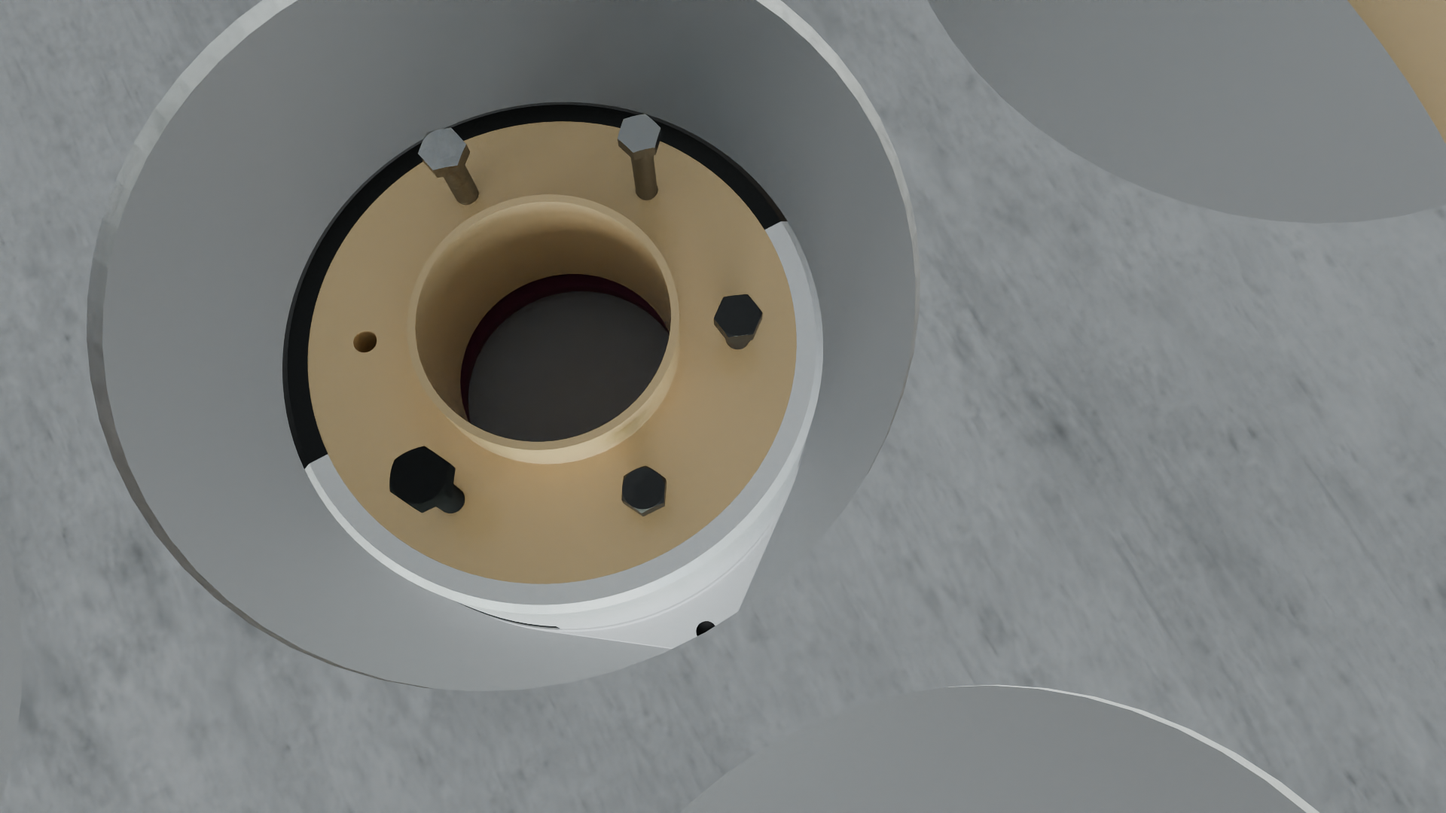bolt: (389, 446, 450, 509), (621, 465, 666, 513), (714, 294, 763, 338), (418, 128, 466, 170), (618, 114, 660, 153)
